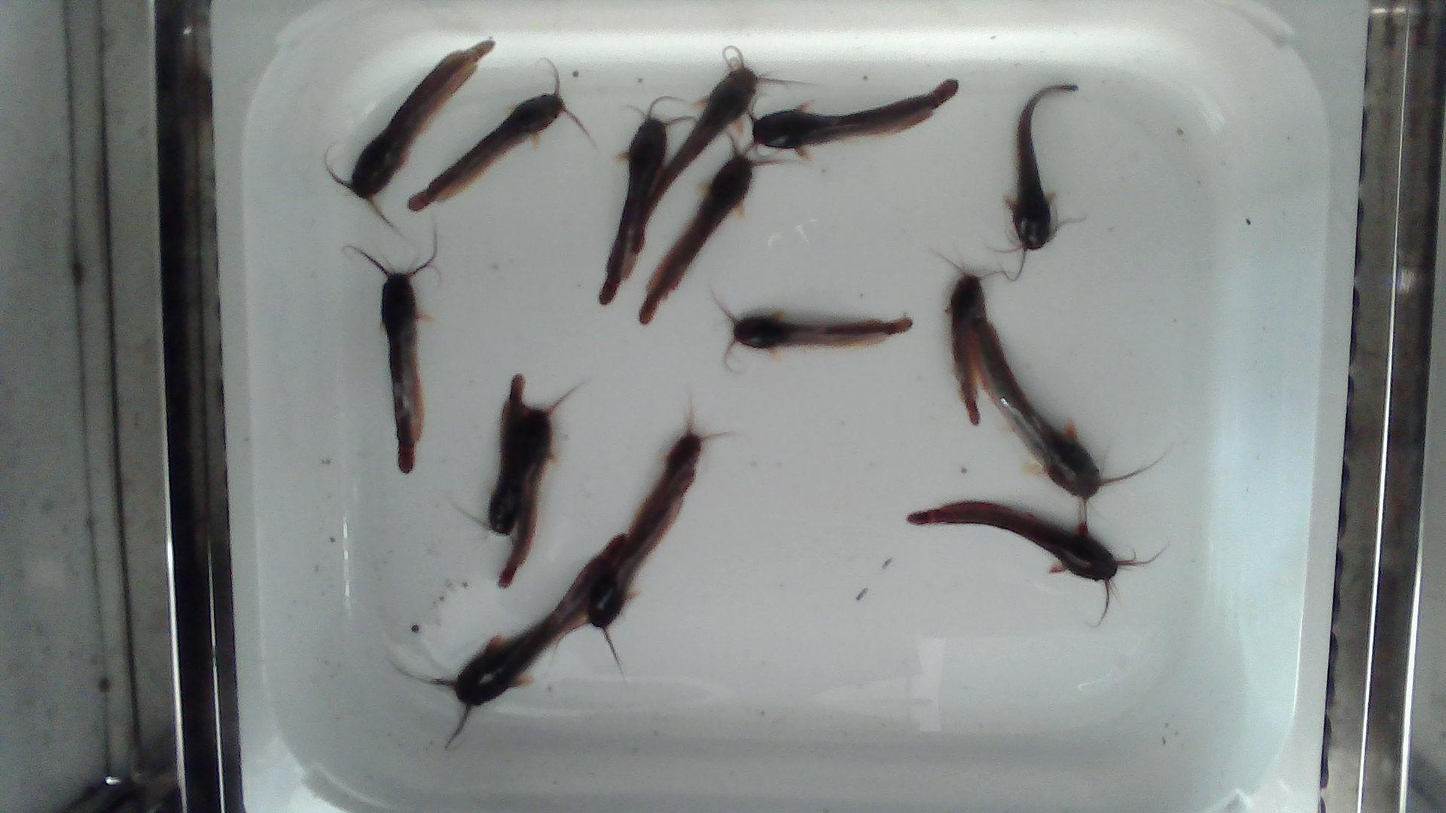lele: (402, 534, 623, 743), (968, 319, 1147, 524), (325, 39, 495, 235), (407, 59, 590, 211), (563, 470, 696, 674), (907, 501, 1151, 603), (347, 232, 438, 473), (640, 149, 753, 323), (613, 404, 713, 576), (752, 80, 958, 154), (654, 47, 758, 192), (496, 391, 569, 588), (1004, 84, 1076, 280), (599, 117, 667, 303), (467, 371, 526, 537), (944, 267, 996, 428), (731, 311, 912, 349)
